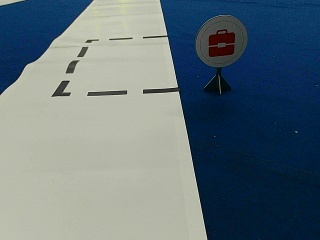company: (195, 15, 249, 66)
